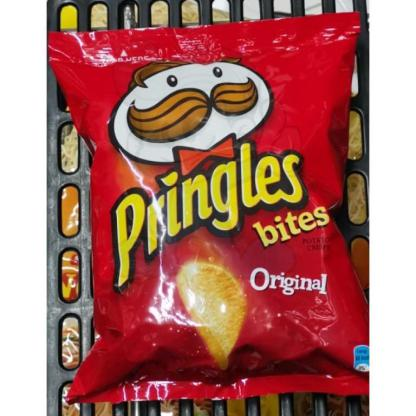potatochip: (46, 11, 372, 403)
